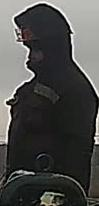helmet: (12, 21, 41, 46)
vest: (4, 65, 98, 196)
